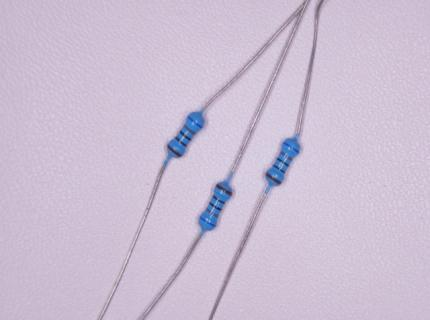Black band: (179, 130, 192, 141), (174, 136, 187, 147), (213, 195, 226, 205), (272, 164, 285, 174), (277, 157, 289, 167), (209, 202, 222, 211)
Blue band: (187, 115, 203, 129), (282, 141, 299, 154), (199, 216, 216, 228)
Brown band: (266, 172, 282, 185), (216, 183, 232, 196), (167, 144, 183, 157)
Grey band: (205, 207, 219, 219), (183, 124, 196, 136), (279, 151, 292, 162)
